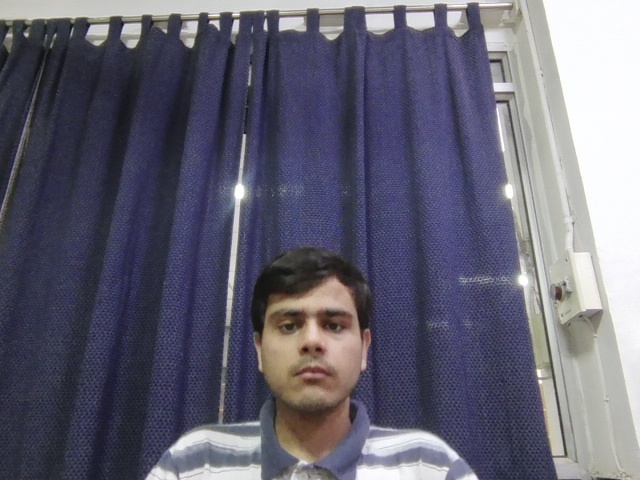face: (248, 251, 375, 411)
